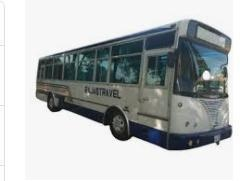bus: (36, 20, 232, 150)
